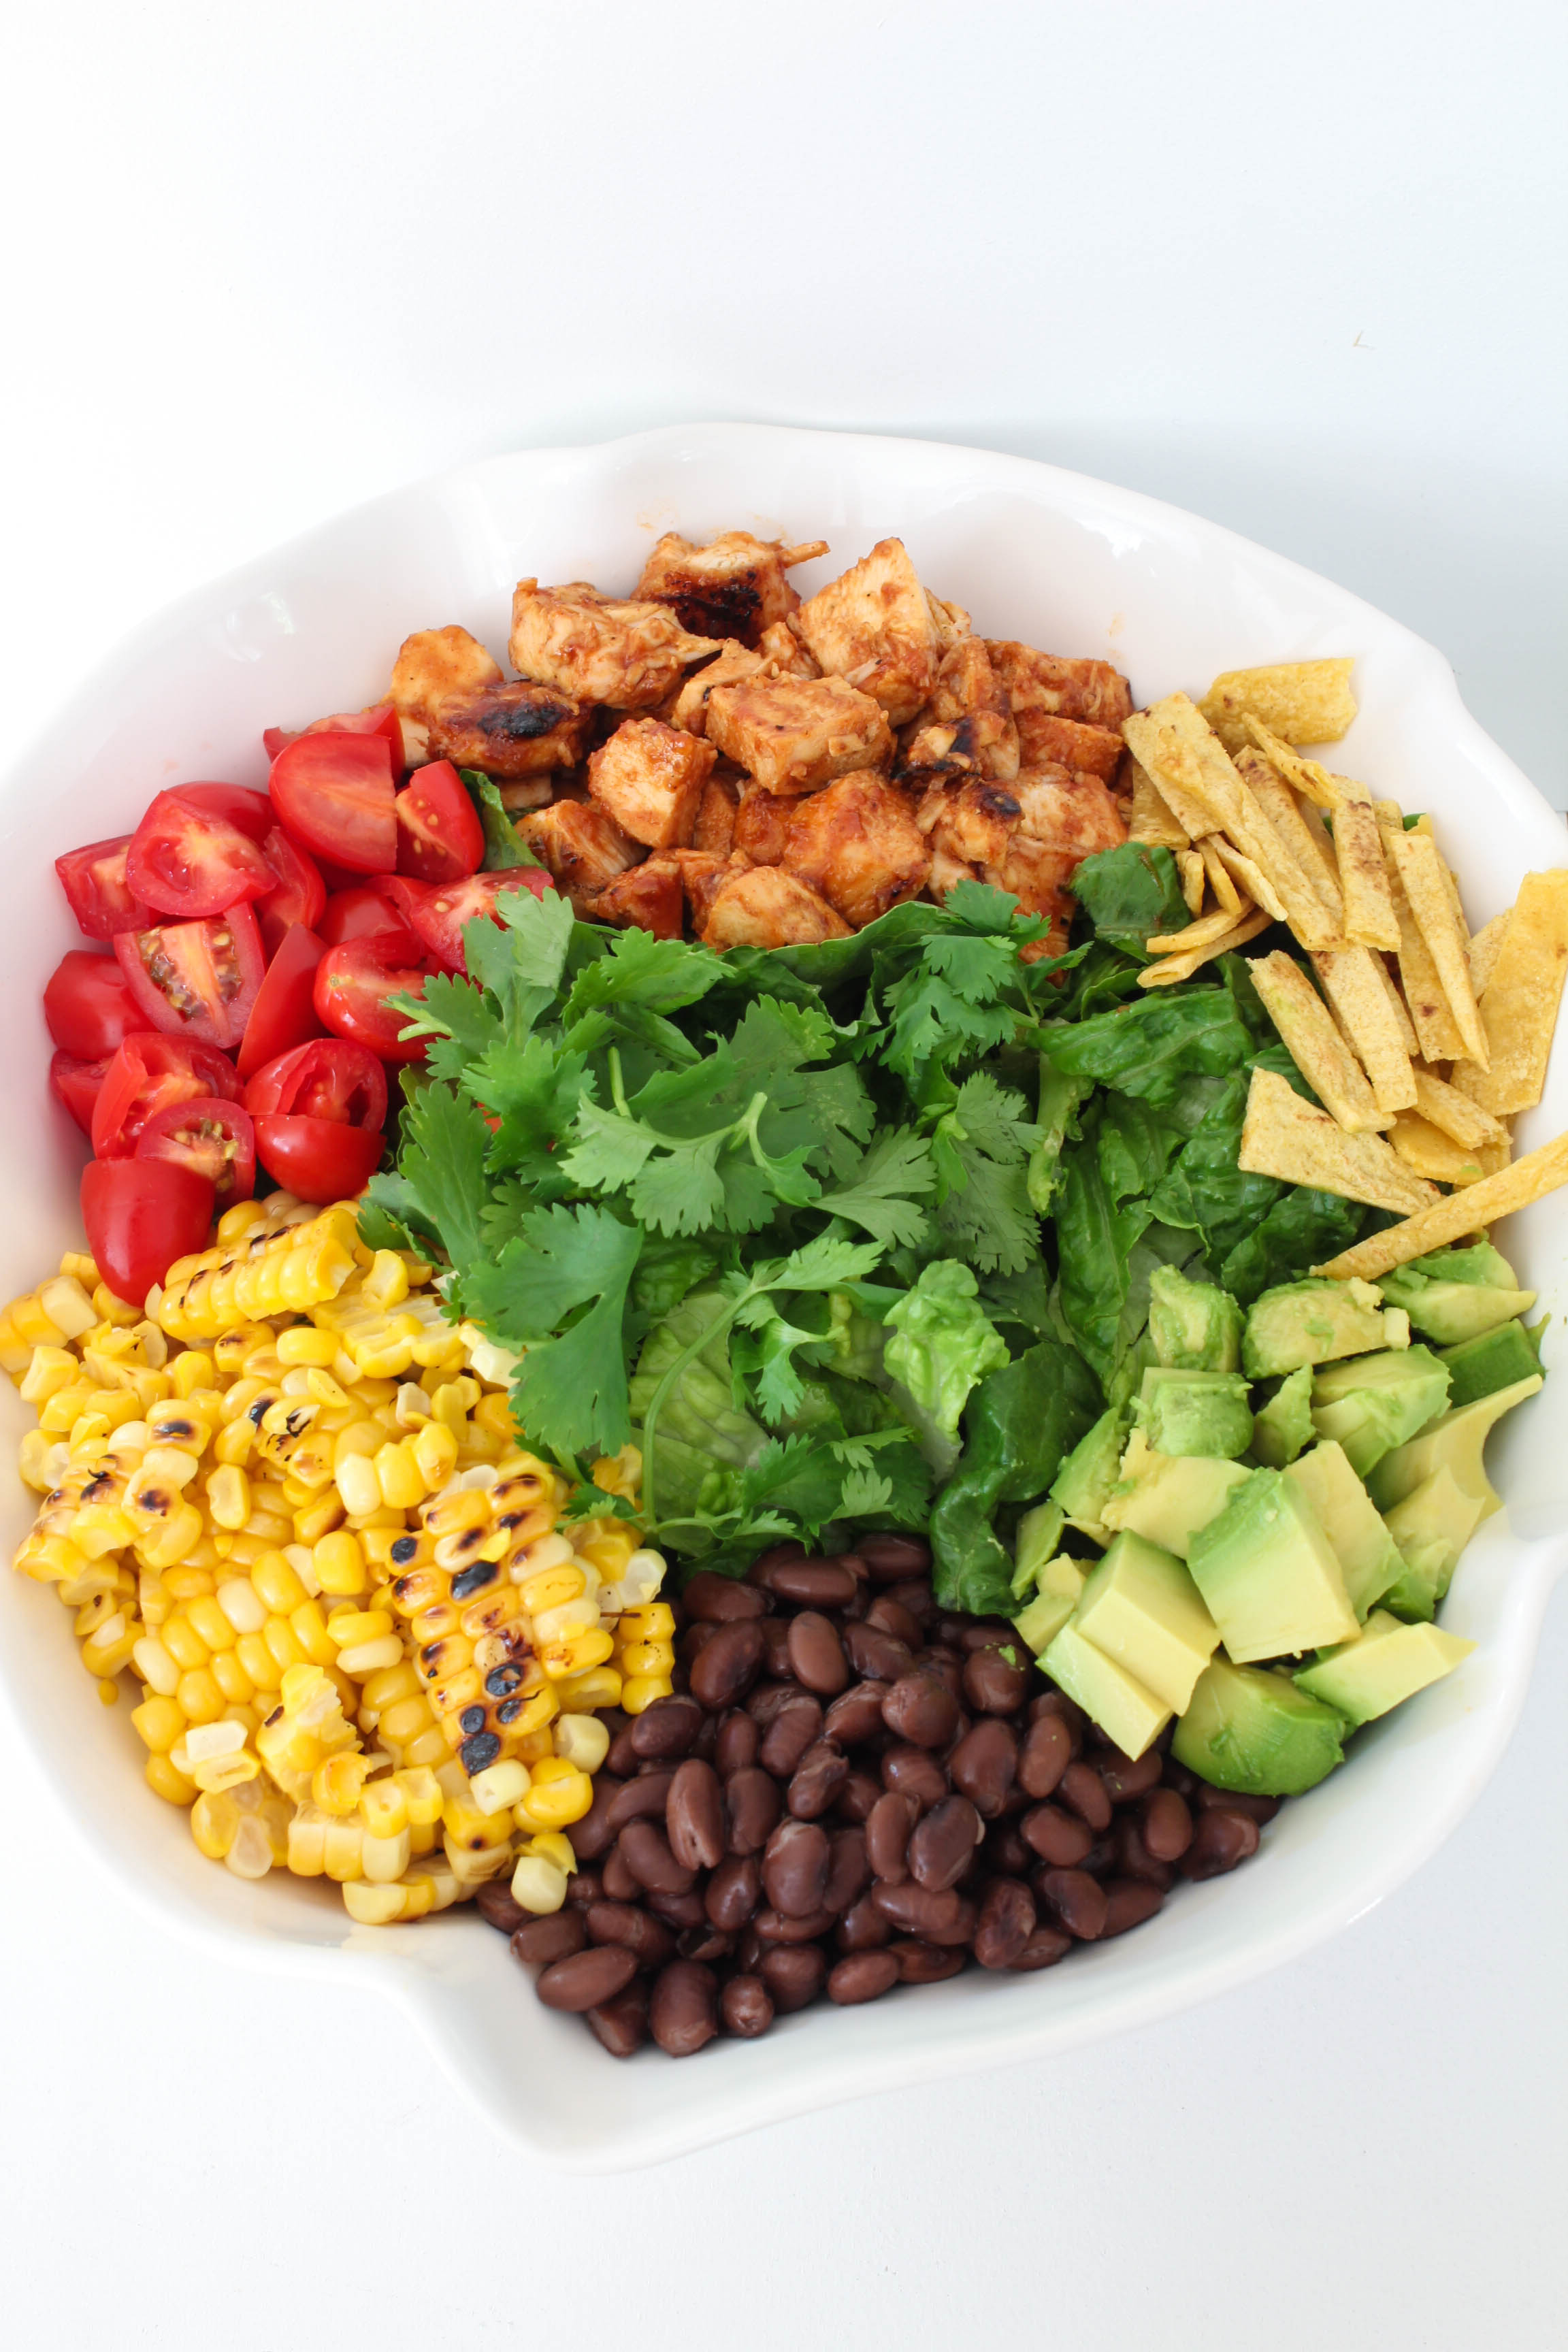chopped lettuce: (459, 943, 1172, 1493)
